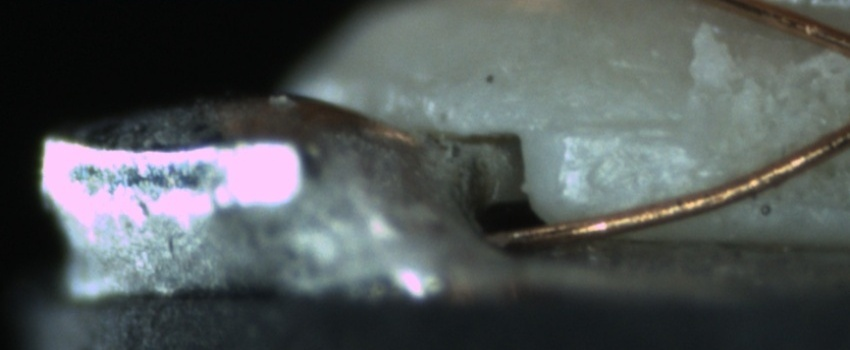DL: (547, 94, 685, 161)
